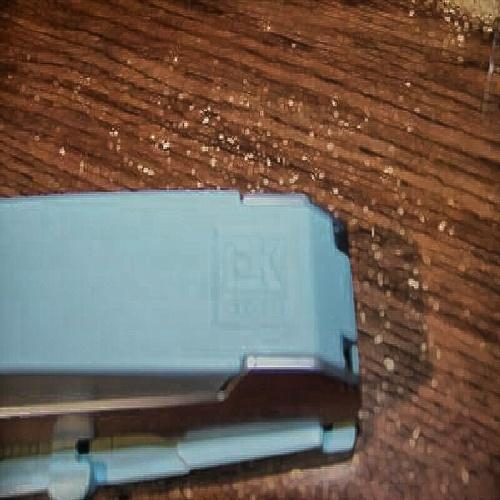stapler: (19, 183, 381, 484)
